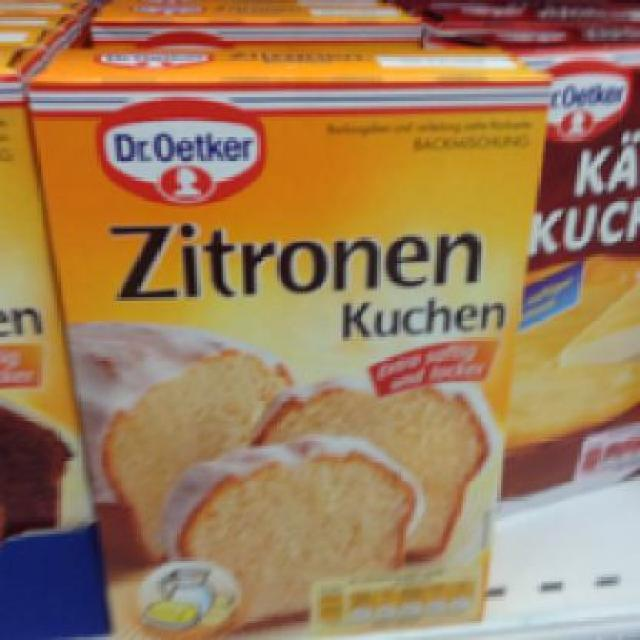Cake: (17, 37, 557, 637)
